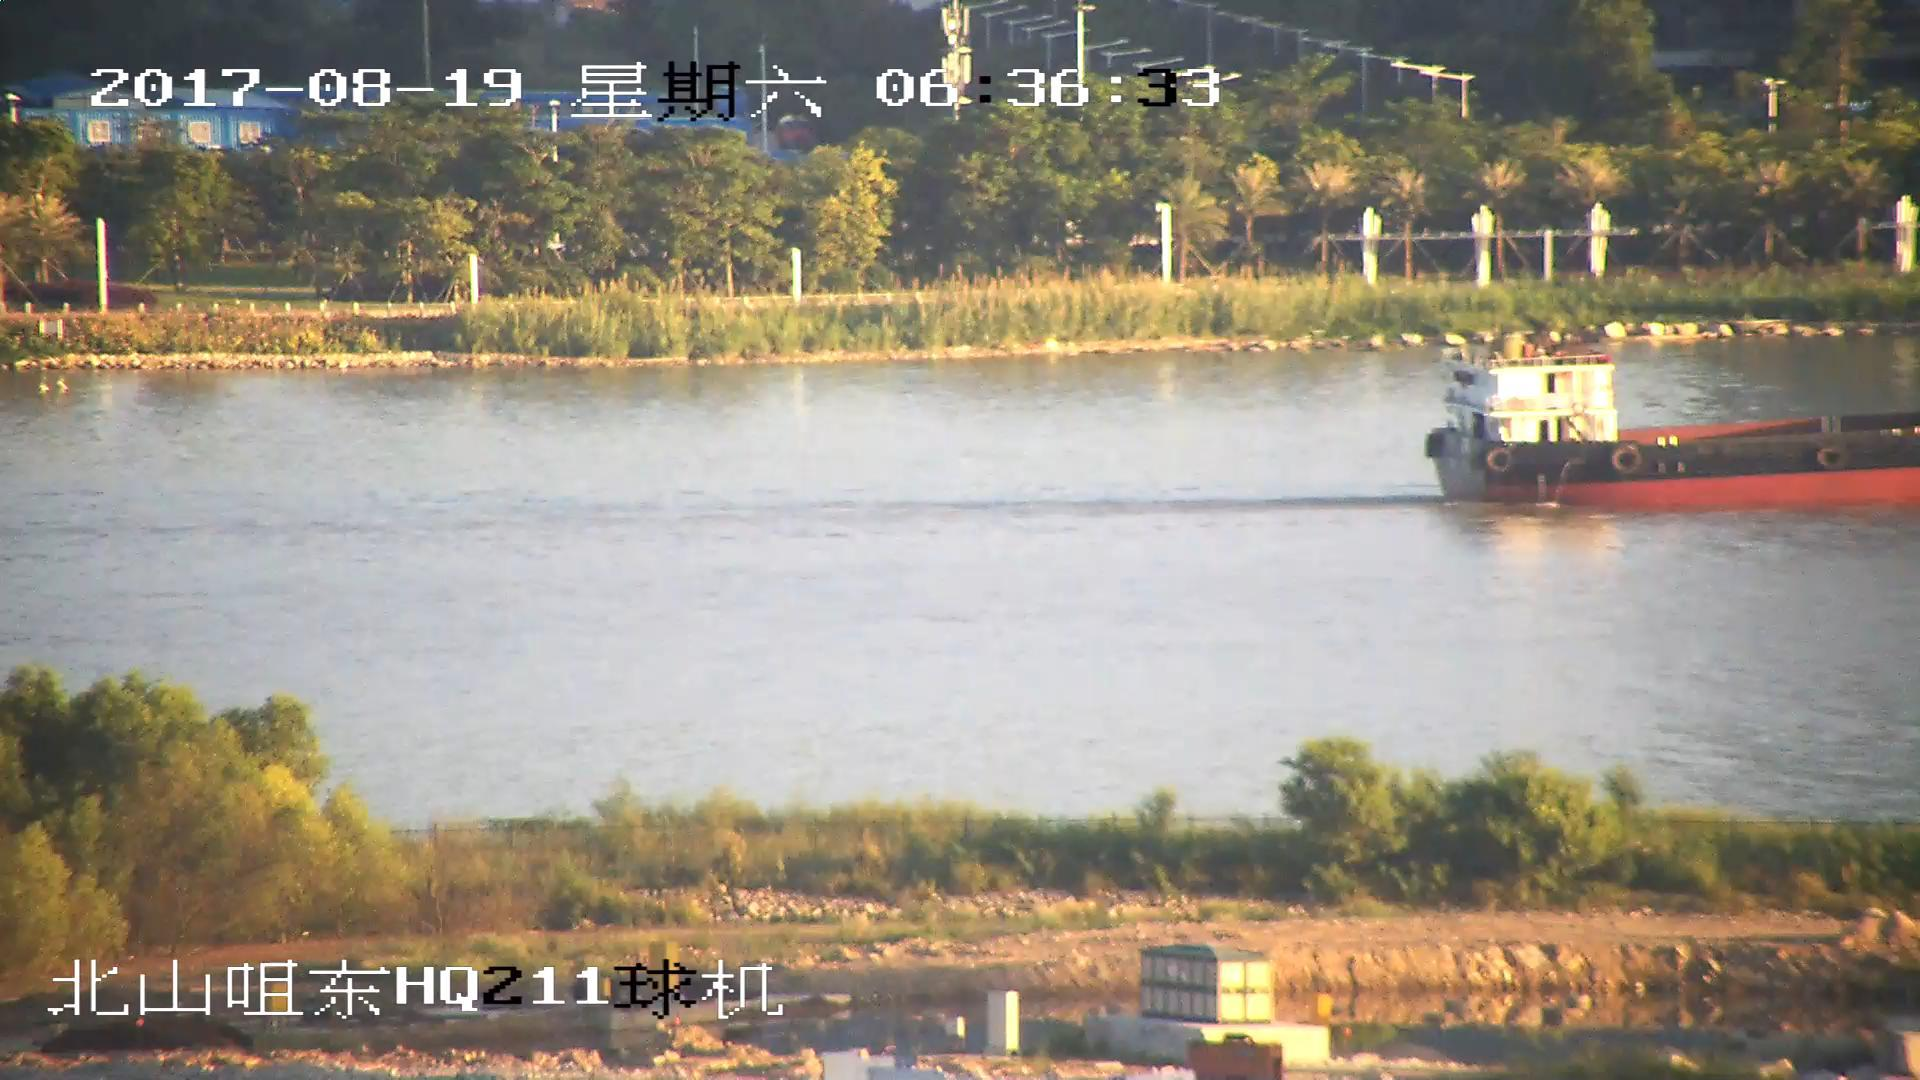Ship: (1433, 352, 1920, 500)
